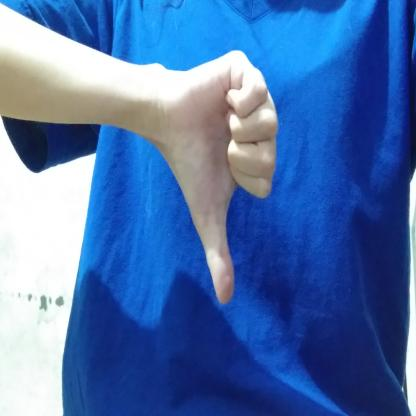no: (138, 47, 284, 308)
